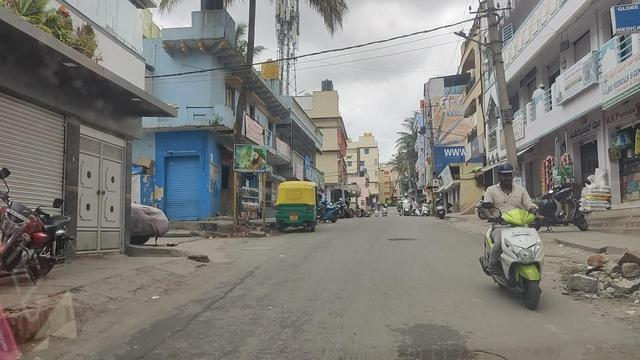LMV: (484, 165, 545, 308)
RoadDamages: (389, 312, 477, 360), (189, 296, 223, 324), (234, 266, 260, 286), (390, 234, 418, 245)
